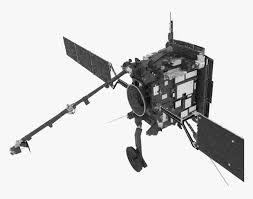antenna: (7, 65, 129, 158), (124, 144, 150, 174), (167, 11, 176, 39)
body: (125, 39, 217, 138)
solar: (196, 111, 246, 184), (61, 34, 114, 88)
thruster: (126, 84, 150, 117)
